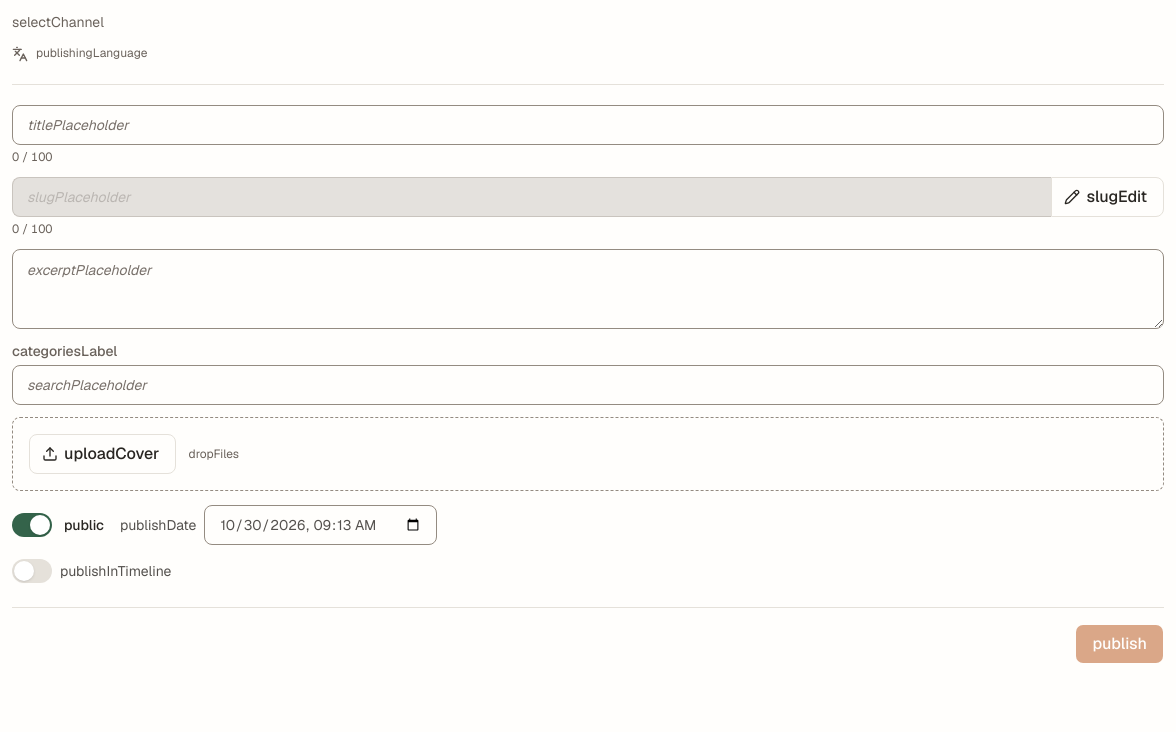
Scenario: BlogForm slug field › enables slug editing when the appended button is clicked
Check: the field with placeholder "slugPlaceholder" is disabled, box [12, 176, 1051, 216]
Click the button "slugEdit": (1108, 196) [1051, 176, 1164, 216]
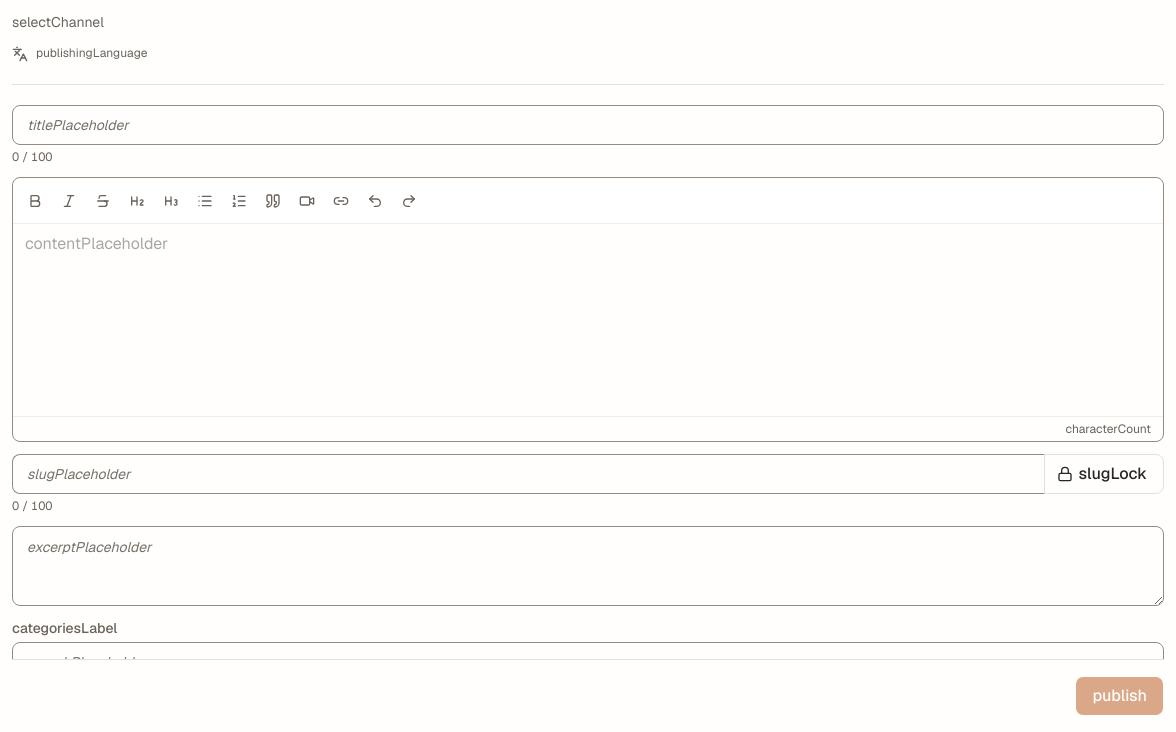
Check: the field with placeholder "slugPlaceholder" is enabled, box [12, 454, 1044, 494]
Check: the button "slugLock" is shown, box [1044, 454, 1164, 494]
